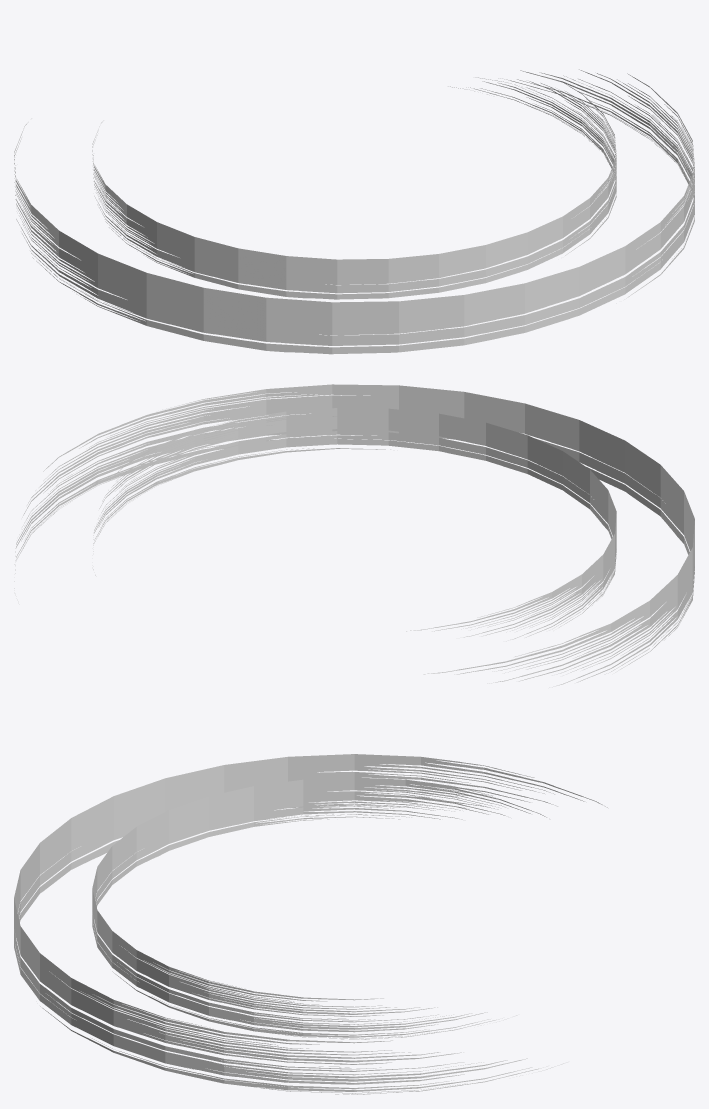
File: Dust_Wave.fbx
3 views of the same model, one above another, from view 1: azimuth 30°, elevation 25°; view 2: azimuth 150°, elevation 25°; view 3: azimuth 270°, elevation 25° (orthographic).
Visible parts, largest first — view 1: Cylinder.001; view 2: Cylinder.001; view 3: Cylinder.001.
Part boxes in pixels (<box>): Cylinder.001: <box>14,69,694,354</box>; Cylinder.001: <box>14,384,694,687</box>; Cylinder.001: <box>14,754,607,1094</box>.
Bounding box in the file's own units: 200 × 20.33 × 200.
